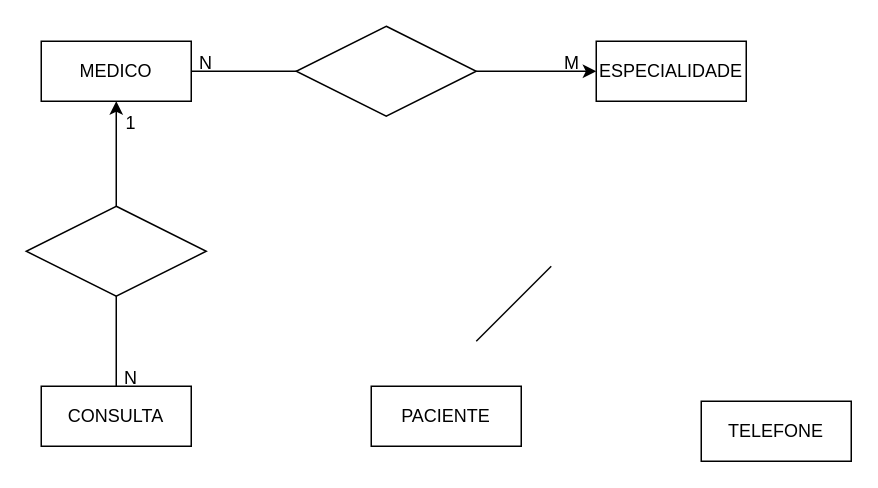
This 878x488 diagram has some shape labels left out. The shapes that lost their labels are listed below. From the top down, each one's box as (x1, y1, x2, y2) in pixels, then its label:
(295, 25, 476, 116): POSSUI
(25, 205, 206, 296): ATENDE
